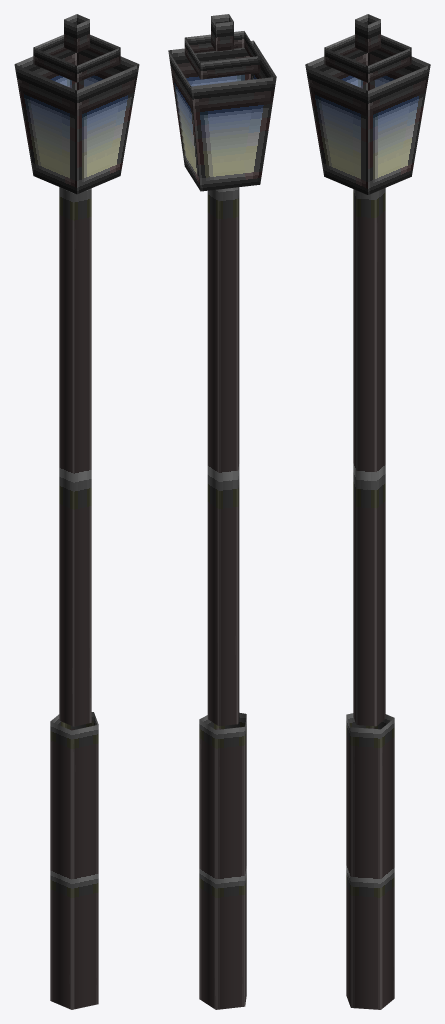
File: nintendogs_street_light.glb
The picture shows the model from 3 angles, left to right: view 1: azimuth 90°, elevation 25°; view 2: azimuth 150°, elevation 25°; view 3: azimuth 270°, elevation 25°; orthographic projection.
Visible parts, largest first — view 1: Mdl_0_Mtl_mt_LampPole; view 2: Mdl_0_Mtl_mt_LampPole; view 3: Mdl_0_Mtl_mt_LampPole.
Part boxes in pixels (x1=…): Mdl_0_Mtl_mt_LampPole: x1=14, y1=14, x2=139, y2=1009; Mdl_0_Mtl_mt_LampPole: x1=168, y1=14, x2=276, y2=1009; Mdl_0_Mtl_mt_LampPole: x1=305, y1=14, x2=430, y2=1009.
Size of what is drawn, in the model's own units: 4.05 by 35 by 4.05.
Materials: 1 (1 with a texture image).
